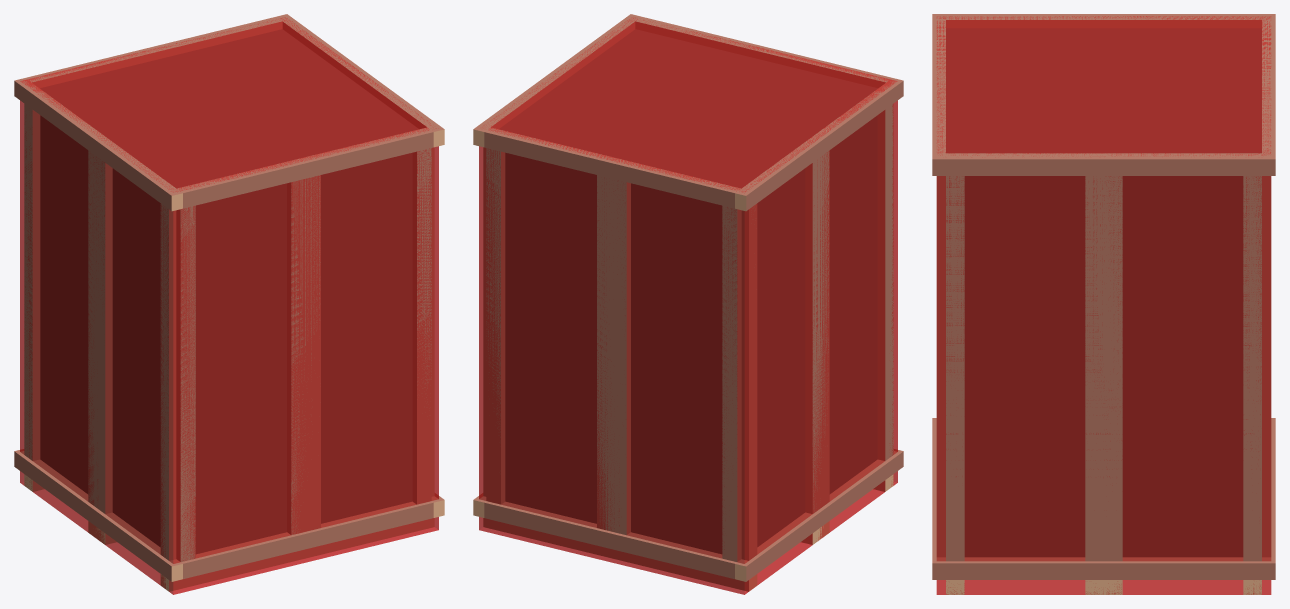
File: crate_extra_large.glb
The picture shows the model from 3 angles, left to right: view 1: azimuth 30°, elevation 25°; view 2: azimuth 150°, elevation 25°; view 3: azimuth 270°, elevation 25°; orthographic projection. The views are drawn at different scales.
Visible parts, largest first — view 1: CrateExtraLargeCollision-occ, CrateExtraLargeCollision-colonly; view 2: CrateExtraLargeCollision-occ, CrateExtraLargeCollision-colonly; view 3: CrateExtraLargeCollision-occ, CrateExtraLargeCollision-colonly.
Boxes of the visible parts, x1,y1,x2,y2 form: CrateExtraLargeCollision-occ: (14,14,444,591); CrateExtraLargeCollision-colonly: (20,17,438,594); CrateExtraLargeCollision-occ: (473,14,903,591); CrateExtraLargeCollision-colonly: (479,17,897,594); CrateExtraLargeCollision-occ: (932,14,1275,594); CrateExtraLargeCollision-colonly: (936,16,1271,594).
Size of the model in its own units: 2.31 by 3.25 by 2.31.
